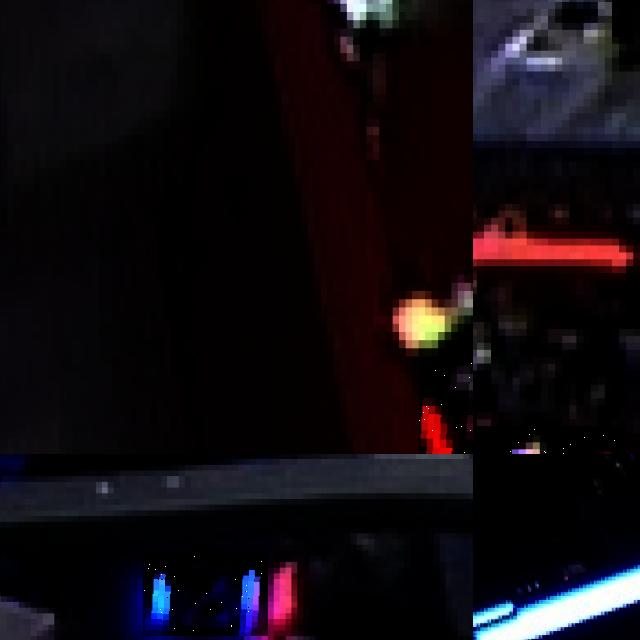B2: (143, 551, 268, 636)
R1: (473, 426, 626, 454)
R3: (418, 356, 473, 454)
